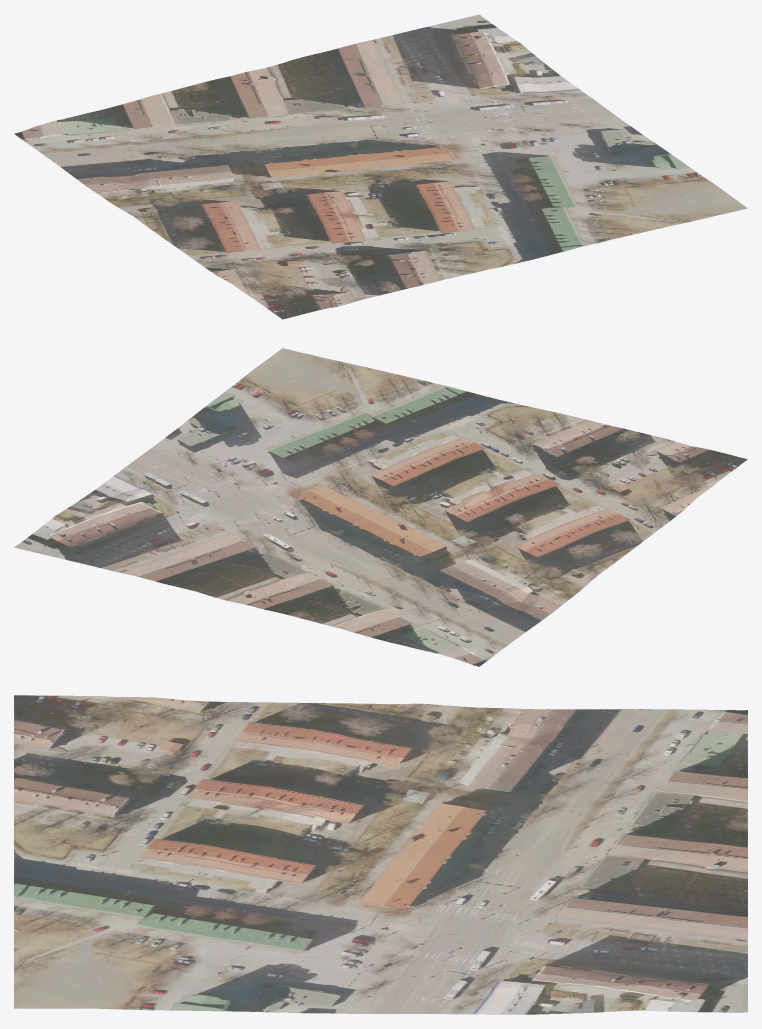
File: CM_Terrain_24489025_6820818.fbx
The picture shows the model from 3 angles, top to bottom: view 1: azimuth 30°, elevation 25°; view 2: azimuth 150°, elevation 25°; view 3: azimuth 270°, elevation 25°; orthographic projection. The views are drawn at different scales.
Parts seen in each view (by area): view 1: CM_Terrain_24489025_6820818_LOD0; view 2: CM_Terrain_24489025_6820818_LOD0; view 3: CM_Terrain_24489025_6820818_LOD0.
Boxes of the visible parts, <box> form: CM_Terrain_24489025_6820818_LOD0: <box>14,14,747,319</box>; CM_Terrain_24489025_6820818_LOD0: <box>14,348,747,666</box>; CM_Terrain_24489025_6820818_LOD0: <box>14,695,747,1014</box>.
Size of what is drawn, in the model's own units: 205 by 5.77 by 205.
